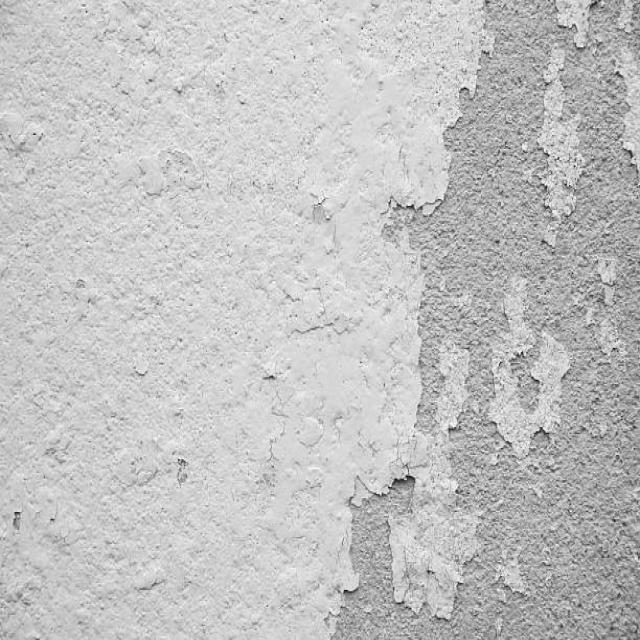peeling paint: (297, 3, 640, 640)
